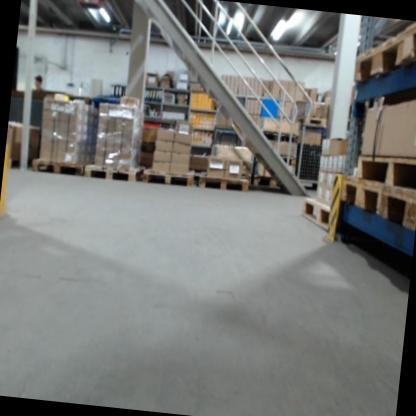pallet: (353, 24, 405, 88), (353, 151, 416, 191), (337, 175, 385, 217), (378, 184, 416, 235), (301, 197, 333, 233), (197, 175, 250, 195), (31, 159, 87, 177), (85, 165, 144, 181), (142, 170, 188, 187), (401, 20, 416, 68), (250, 174, 281, 190), (296, 116, 326, 131)
stillage: (291, 121, 328, 191)
